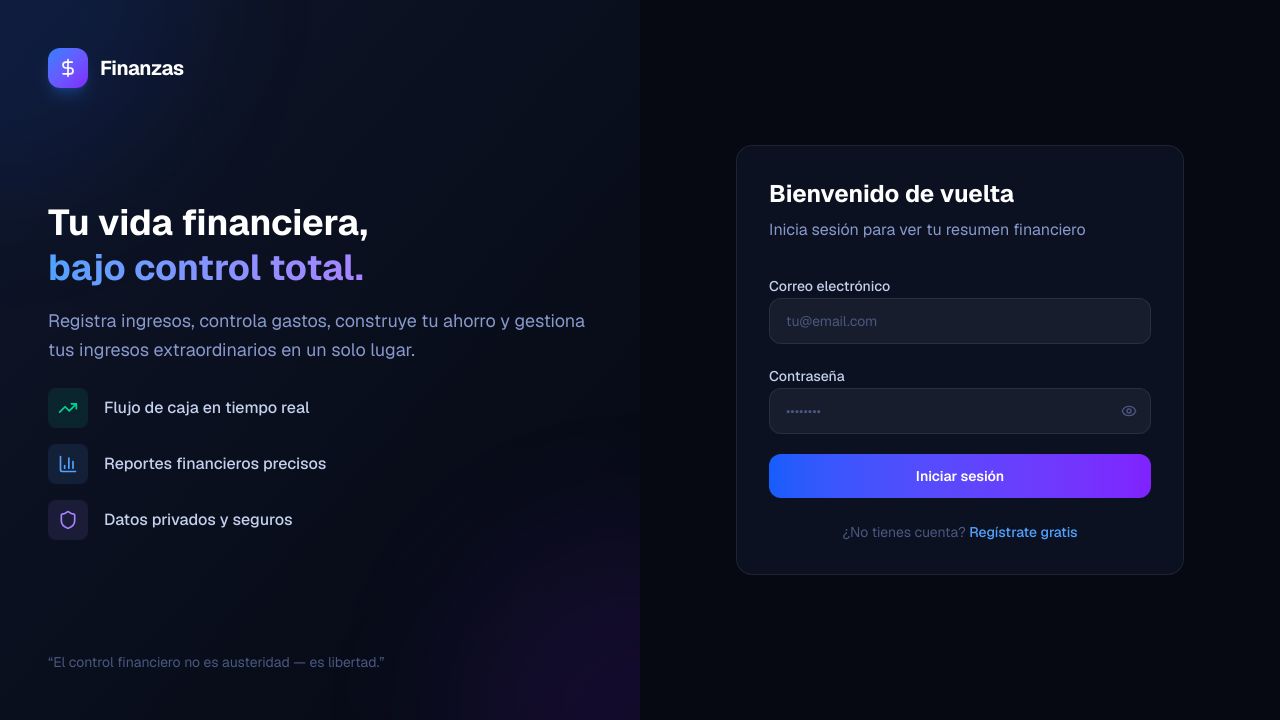
it: LoginPage › displays an error message when login fails
In the field labelled "Correo electrónico": (960, 321) [769,298,1151,344], type "wrong@example.com"
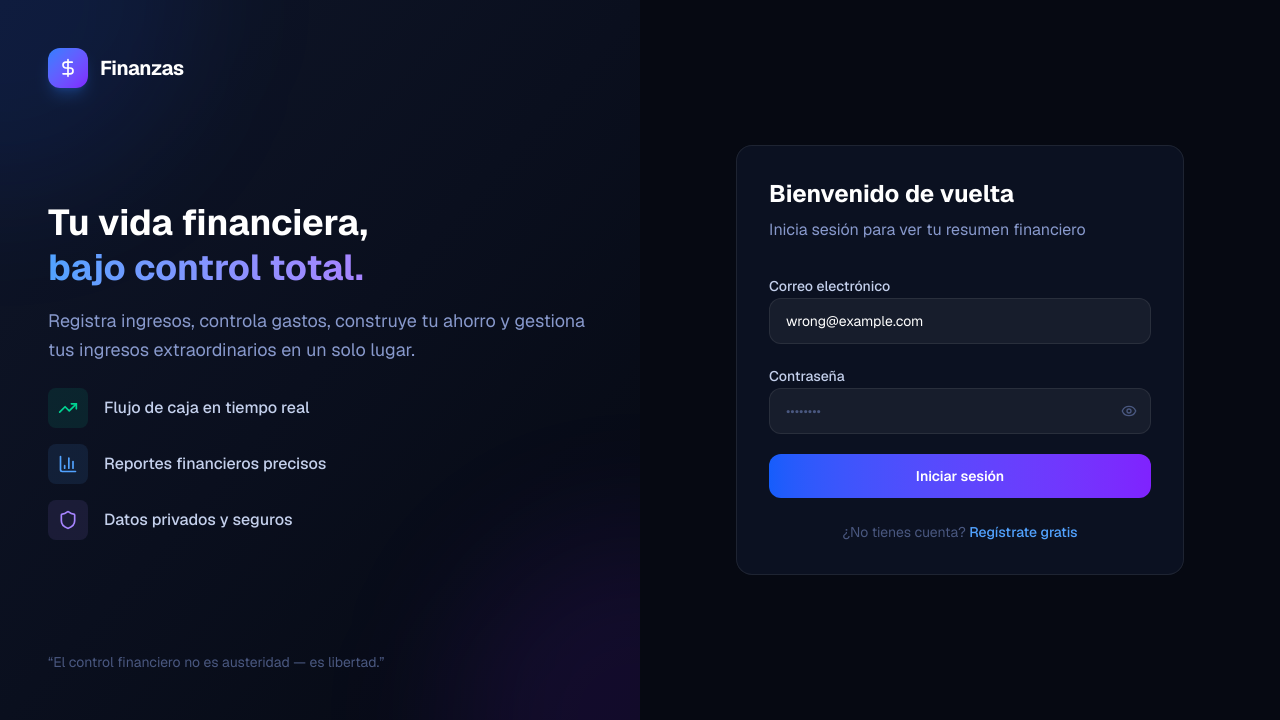
In the password field labelled "Contraseña": (960, 411) [769,388,1151,434], type "wrongpass"
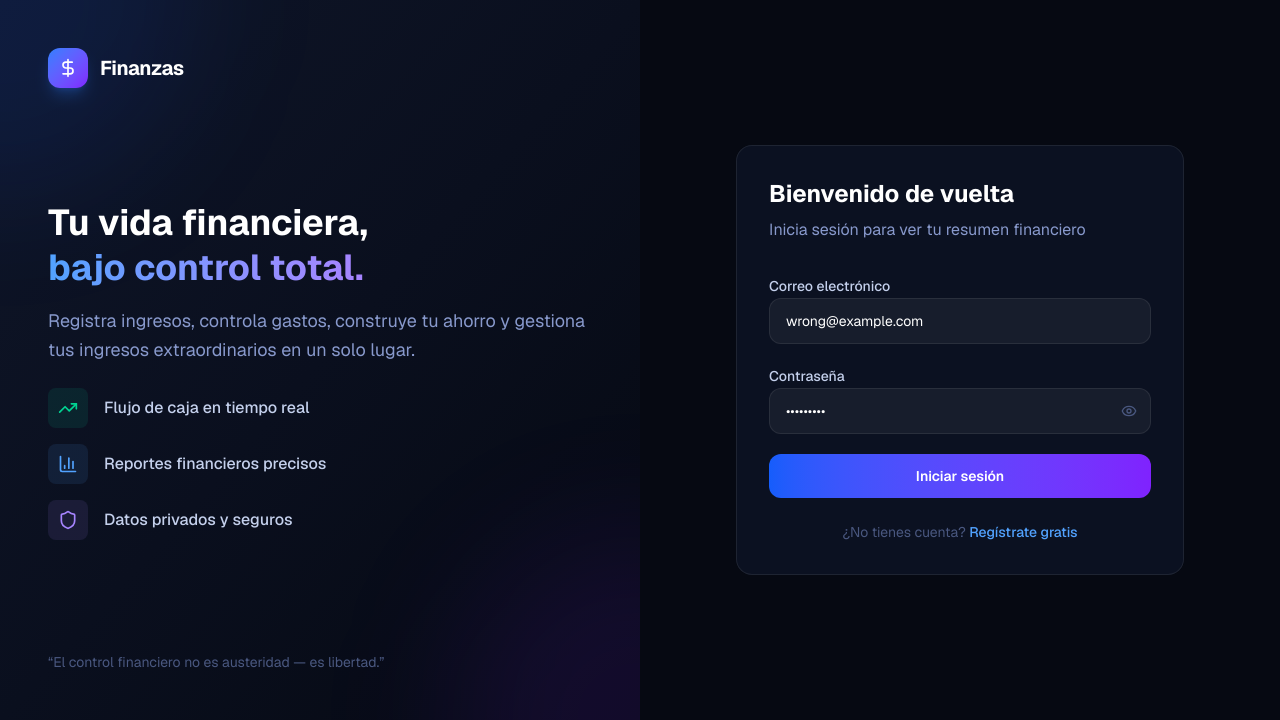
Click the button "Iniciar sesión": (960, 476) [769,454,1151,498]
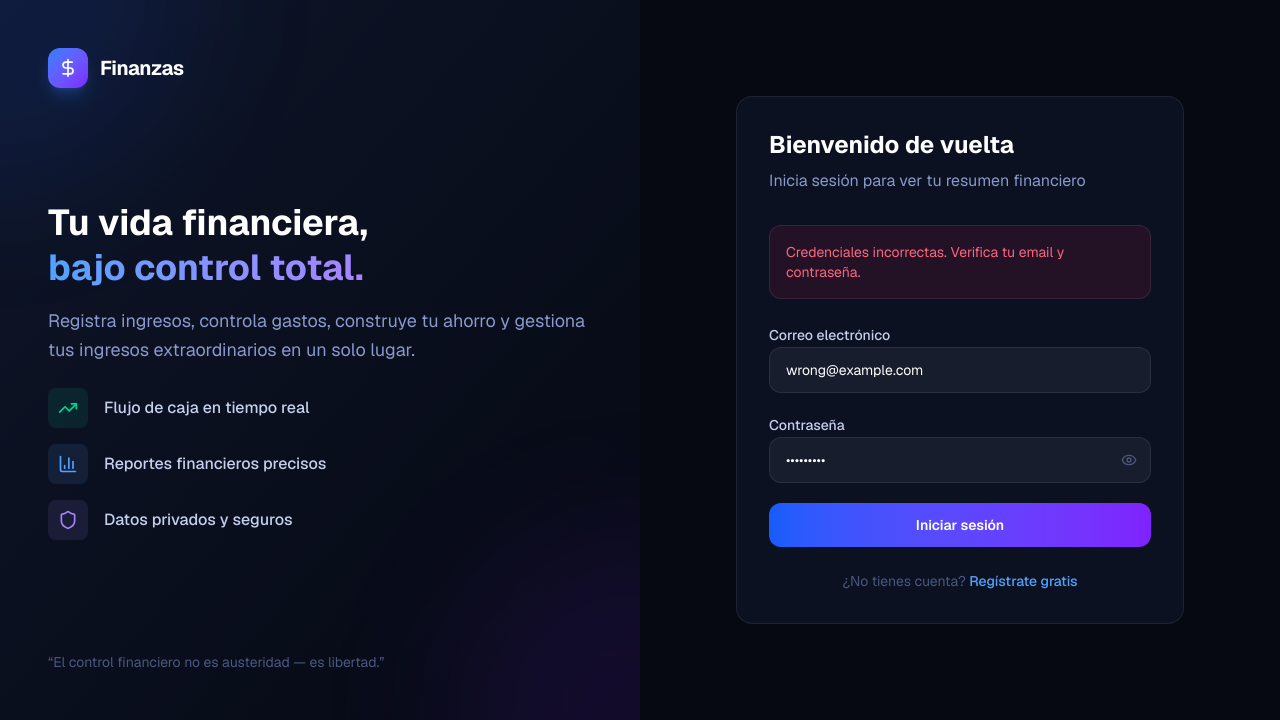
expect the text "Credenciales incorrectas. Verifica tu email y contraseña." is shown: met, box [769,225,1151,299]
